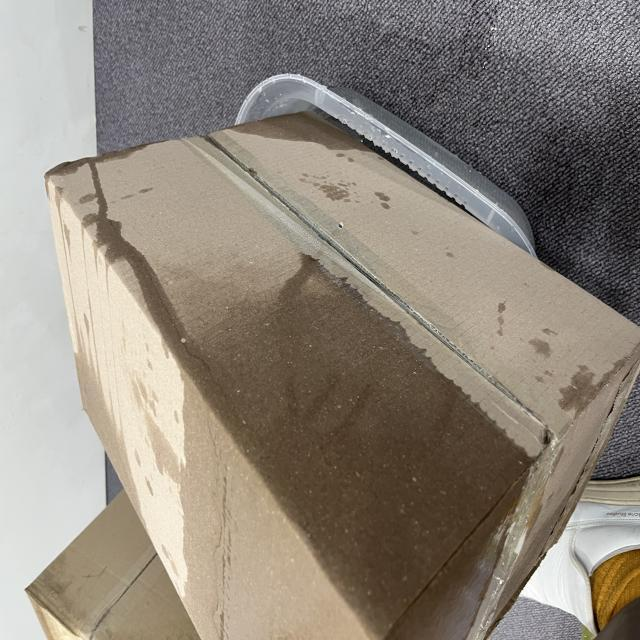wet: (185, 307, 537, 640), (234, 99, 362, 161)
